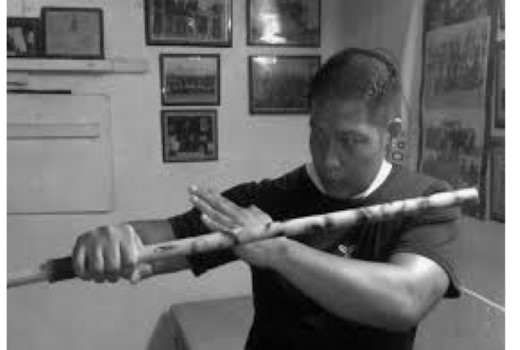baston_e: (148, 183, 469, 269)
baston_v: (464, 178, 486, 209)
